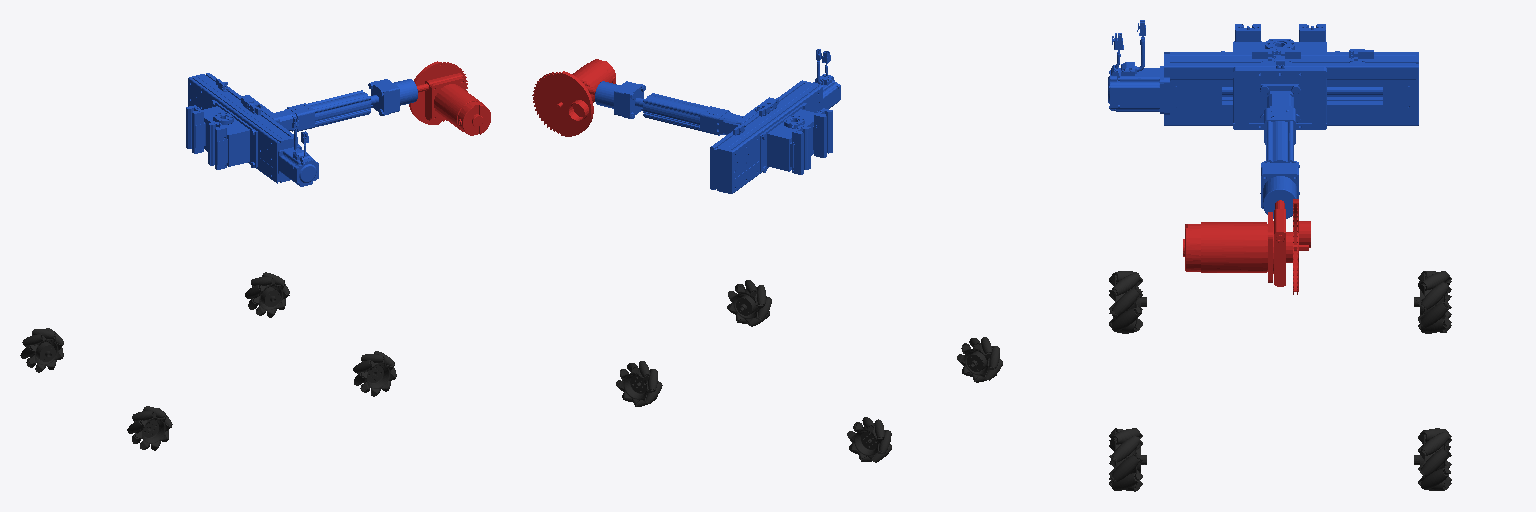
URDF robot description (scr_robot):
<?xml version="1.0" encoding="utf-8"?>
<!-- Modified for ROS2 compatibility -->
<robot name="scr_robot">
  
  <!-- 材质定义 -->
  <material name="silver">
    <color rgba="0.808 0.843 0.906 1"/>
  </material>
  
  <material name="black">
    <color rgba="0.2 0.2 0.2 1"/>
  </material>
  
  <material name="blue">
    <color rgba="0.2 0.4 0.8 1"/>
  </material>
  
  <material name="red">
    <color rgba="0.8 0.2 0.2 1"/>
  </material>

  <!-- 底盘基座 -->
  <link name="base_link">
    <inertial>
      <origin xyz="-0.0271869545617233 -1.19461122941034E-05 0.240742282977963" rpy="0 0 0" />
      <mass value="6.49820335119445" />
      <inertia
        ixx="0.212134328832715"
        ixy="-4.36268536173614E-08"
        ixz="-0.000322313919588723"
        iyy="0.190547802895951"
        iyz="-5.62513007166979E-06"
        izz="0.0905915740494004" />
    </inertial>
    <visual>
      <origin xyz="0 0 0" rpy="0 0 0" />
      <geometry>
        <mesh filename="package://scr_description/meshes/base_link.STL" />
      </geometry>
      <material name="silver" />
    </visual>
    <collision>
      <origin xyz="0 0 0" rpy="0 0 0" />
      <geometry>
        <mesh filename="package://scr_description/meshes/base_link.STL" />
      </geometry>
    </collision>
  </link>

  <!-- 左前轮 (Left Front) -->
  <link name="lf_link">
    <inertial>
      <origin xyz="5.29557580564166E-08 -6.17963774179886E-08 -0.0305109870278072" rpy="0 0 0" />
      <mass value="0.129839804826671" />
      <inertia
        ixx="2.63561432215261E-05"
        ixy="-7.20251226080988E-11"
        ixz="1.70982515377405E-11"
        iyy="2.63544848655039E-05"
        iyz="6.39415997460102E-11"
        izz="3.34636998142227E-05" />
    </inertial>
    <visual>
      <origin xyz="0 0 0" rpy="0 0 0" />
      <geometry>
        <mesh filename="package://scr_description/meshes/lf_link.STL" />
      </geometry>
      <material name="black" />
    </visual>
    <collision>
      <origin xyz="0 0 0" rpy="0 0 0" />
      <geometry>
        <mesh filename="package://scr_description/meshes/lf_link.STL" />
      </geometry>
    </collision>
  </link>

  <joint name="joint_lf_link" type="continuous">
    <origin xyz="0.29625 0.212 -0.052484" rpy="1.5708 0 0" />
    <parent link="base_link" />
    <child link="lf_link" />
    <axis xyz="0 0 1" />
  </joint>

  <!-- 右前轮 (Right Front) -->
  <link name="rf_link">
    <inertial>
      <origin xyz="-8.43667760097588E-08 -4.99532847100803E-08 0.0305109948019305" rpy="0 0 0" />
      <mass value="0.129839858904515" />
      <inertia
        ixx="2.63561390358805E-05"
        ixy="-3.1977115837502E-10"
        ixz="1.41178033811077E-11"
        iyy="2.6354414729042E-05"
        iyz="-5.0872373113867E-11"
        izz="3.34636042667901E-05" />
    </inertial>
    <visual>
      <origin xyz="0 0 0" rpy="0 0 0" />
      <geometry>
        <mesh filename="package://scr_description/meshes/rf_link.STL" />
      </geometry>
      <material name="black" />
    </visual>
    <collision>
      <origin xyz="0 0 0" rpy="0 0 0" />
      <geometry>
        <mesh filename="package://scr_description/meshes/rf_link.STL" />
      </geometry>
    </collision>
  </link>

  <joint name="joint_rf_link" type="continuous">
    <origin xyz="0.29625 -0.212 -0.052484" rpy="1.5708 0 0" />
    <parent link="base_link" />
    <child link="rf_link" />
    <axis xyz="0 0 -1" />
  </joint>

  <!-- 左后轮 (Left Back) -->
  <link name="lb_link">
    <inertial>
      <origin xyz="6.55648161318467E-08 -6.48109523895823E-08 -0.0305109900352756" rpy="0 0 0" />
      <mass value="0.129839854216223" />
      <inertia
        ixx="2.63559328637384E-05"
        ixy="3.74491510346193E-10"
        ixz="-9.08996092228637E-13"
        iyy="2.63544971814173E-05"
        iyz="6.3163341142044E-11"
        izz="3.34634914360848E-05" />
    </inertial>
    <visual>
      <origin xyz="0 0 0" rpy="0 0 0" />
      <geometry>
        <mesh filename="package://scr_description/meshes/lb_link.STL" />
      </geometry>
      <material name="black" />
    </visual>
    <collision>
      <origin xyz="0 0 0" rpy="0 0 0" />
      <geometry>
        <mesh filename="package://scr_description/meshes/lb_link.STL" />
      </geometry>
    </collision>
  </link>

  <joint name="joint_lb_link" type="continuous">
    <origin xyz="-0.29691 0.212 -0.052484" rpy="1.5708 0 0" />
    <parent link="base_link" />
    <child link="lb_link" />
    <axis xyz="0 0 1" />
  </joint>

  <!-- 右后轮 (Right Back) -->
  <link name="rb_link">
    <inertial>
      <origin xyz="-6.29950885899788E-08 -9.84461989844698E-08 0.0305109978955908" rpy="0 0 0" />
      <mass value="0.129839864464815" />
      <inertia
        ixx="2.63562458419912E-05"
        ixy="2.29704947052573E-10"
        ixz="1.50282886449282E-11"
        iyy="2.63545430564528E-05"
        iyz="-3.37407424593969E-11"
        izz="3.34638337117375E-05" />
    </inertial>
    <visual>
      <origin xyz="0 0 0" rpy="0 0 0" />
      <geometry>
        <mesh filename="package://scr_description/meshes/rb_link.STL" />
      </geometry>
      <material name="black" />
    </visual>
    <collision>
      <origin xyz="0 0 0" rpy="0 0 0" />
      <geometry>
        <mesh filename="package://scr_description/meshes/rb_link.STL" />
      </geometry>
    </collision>
  </link>

  <joint name="joint_rb_link" type="continuous">
    <origin xyz="-0.29691 -0.212 -0.052484" rpy="1.5708 0 0" />
    <parent link="base_link" />
    <child link="rb_link" />
    <axis xyz="0 0 -1" />
  </joint>

  <!-- 机械臂 Link1 (升降关节) -->
  <link name="link1">
    <inertial>
      <origin xyz="0.0382297535731808 -0.0129853009346597 0.459596279833554" rpy="0 0 0" />
      <mass value="2.98499311852617" />
      <inertia
        ixx="0.0236429744472958"
        ixy="-7.21224005790593E-07"
        ixz="-3.7704382792381E-07"
        iyy="0.00200943641964478"
        iyz="1.17984290029184E-06"
        izz="0.022595998659547" />
    </inertial>
    <visual>
      <origin xyz="0 0 0" rpy="0 0 0" />
      <geometry>
        <mesh filename="package://scr_description/meshes/link1.STL" />
      </geometry>
      <material name="blue" />
    </visual>
    <collision>
      <origin xyz="0 0 0" rpy="0 0 0" />
      <geometry>
        <mesh filename="package://scr_description/meshes/link1.STL" />
      </geometry>
    </collision>
  </link>

  <joint name="joint1" type="prismatic">
    <origin xyz="0.038668 -0.0001 0.048" rpy="0 0 0" />
    <parent link="base_link" />
    <child link="link1" />
    <axis xyz="0 0 1" />
    <limit lower="-0.35" upper="0.2" effort="10" velocity="3" />
  </joint>

  <!-- 机械臂 Link2 (前后伸缩) -->
  <link name="link2">
    <inertial>
      <origin xyz="0.106262539521642 0.00062009464701307 -0.136468740018203" rpy="0 0 0" />
      <mass value="0.613259868815591" />
      <inertia
        ixx="0.000739202772122273"
        ixy="3.02868085831672E-07"
        ixz="2.47314591570609E-08"
        iyy="0.000769406652286141"
        iyz="6.68459909685627E-09"
        izz="0.000601333213127597" />
    </inertial>
    <visual>
      <origin xyz="0 0 0" rpy="0 0 0" />
      <geometry>
        <mesh filename="package://scr_description/meshes/link2.STL" />
      </geometry>
      <material name="blue" />
    </visual>
    <collision>
      <origin xyz="0 0 0" rpy="0 0 0" />
      <geometry>
        <mesh filename="package://scr_description/meshes/link2.STL" />
      </geometry>
    </collision>
  </link>

  <joint name="joint2" type="prismatic">
    <origin xyz="0.0665 -0.13661 0.45879" rpy="1.5708 0 0" />
    <parent link="link1" />
    <child link="link2" />
    <axis xyz="0 0 1" />
    <limit lower="-0.08" upper="0.06" effort="10" velocity="3" />
  </joint>

  <!-- 机械臂 Link3 (左右伸缩) -->
  <link name="link3">
    <inertial>
      <origin xyz="9.44735396233298E-05 0.000166990039199288 0.0666975222492641" rpy="0 0 0" />
      <mass value="0.286606996657999" />
      <inertia
        ixx="0.00018359631080914"
        ixy="4.12263078100897E-07"
        ixz="4.03781560094023E-07"
        iyy="0.000184128876045744"
        iyz="-1.89244530728374E-07"
        izz="0.000131826279029635" />
    </inertial>
    <visual>
      <origin xyz="0 0 0" rpy="0 0 0" />
      <geometry>
        <mesh filename="package://scr_description/meshes/link3.STL" />
      </geometry>
      <material name="blue" />
    </visual>
    <collision>
      <origin xyz="0 0 0" rpy="0 0 0" />
      <geometry>
        <mesh filename="package://scr_description/meshes/link3.STL" />
      </geometry>
    </collision>
  </link>

  <joint name="joint3" type="prismatic">
    <origin xyz="0.3059 0 -0.13656" rpy="0 1.5708 0" />
    <parent link="link2" />
    <child link="link3" />
    <axis xyz="0 0 -1" />
    <limit lower="-0.045" upper="0.02" effort="10" velocity="3" />
  </joint>

  <!-- 机械臂 Link4 (末端执行器旋转) -->
  <link name="link4">
    <inertial>
      <origin xyz="-0.0527404287085458 -0.0348653539347688 0.0819571283290921" rpy="0 0 0" />
      <mass value="0.99908834249615" />
      <inertia
        ixx="0.00120775477312767"
        ixy="8.9496926932981E-07"
        ixz="-1.99357703923385E-06"
        iyy="0.00187541214472099"
        iyz="5.24498571381107E-05"
        izz="0.00178336276032721" />
    </inertial>
    <visual>
      <origin xyz="0 0 0" rpy="0 0 0" />
      <geometry>
        <mesh filename="package://scr_description/meshes/link4.STL" />
      </geometry>
      <material name="red" />
    </visual>
    <collision>
      <origin xyz="0 0 0" rpy="0 0 0" />
      <geometry>
        <mesh filename="package://scr_description/meshes/link4.STL" />
      </geometry>
    </collision>
  </link>

  <joint name="joint4" type="revolute">
    <origin xyz="0 0 0.1257" rpy="0 0 0" />
    <parent link="link3" />
    <child link="link4" />
    <axis xyz="0 0 -1" />
    <limit lower="-1.57" upper="1.57" effort="10" velocity="3" />
  </joint>

</robot>

--- Render facts (derived) ---
3 views of the same robot in one strip: view 1: azimuth 30°, elevation 25°; view 2: azimuth 150°, elevation 25°; view 3: azimuth 270°, elevation 25° (orthographic).
Model scr_robot with 9 links and 8 joints (1 revolute, 4 continuous, 3 prismatic), rooted at base_link, posed all joints at 0.
Links seen in each view (by area): view 1: link1, link4, link2, lf_link, rf_link, lb_link, rb_link, link3; view 2: link1, link4, link2, lb_link, rf_link, lf_link, rb_link, link3; view 3: link1, link2, link4, rf_link, lb_link, lf_link, rb_link, link3.
Link boxes in pixels (x1,y1,x2,y2): link1: (186,73,318,186); link4: (409,61,490,135); link2: (241,90,370,131); lf_link: (245,272,289,317); rf_link: (353,351,396,396); lb_link: (20,328,63,372); rb_link: (127,406,172,450); link3: (368,79,417,115); link1: (710,49,840,193); link4: (532,59,615,136); link2: (643,93,778,135); lb_link: (847,417,891,462); rf_link: (727,280,771,326); lf_link: (616,361,662,406); rb_link: (957,337,1002,382); link3: (595,81,645,118); link1: (1108,20,1418,125); link2: (1233,49,1326,162); link4: (1183,199,1310,294); rf_link: (1109,428,1146,491); lb_link: (1414,271,1451,333); lf_link: (1414,428,1451,490); rb_link: (1109,271,1146,333); link3: (1260,161,1299,218).
Size in the robot's own frame: 1.04 by 0.5454 by 0.7286 metres.
8 mesh visuals loaded from 9 distinct referenced files (8 binary STL); not drawn: 1 (reference not matched to a file when rendering).
